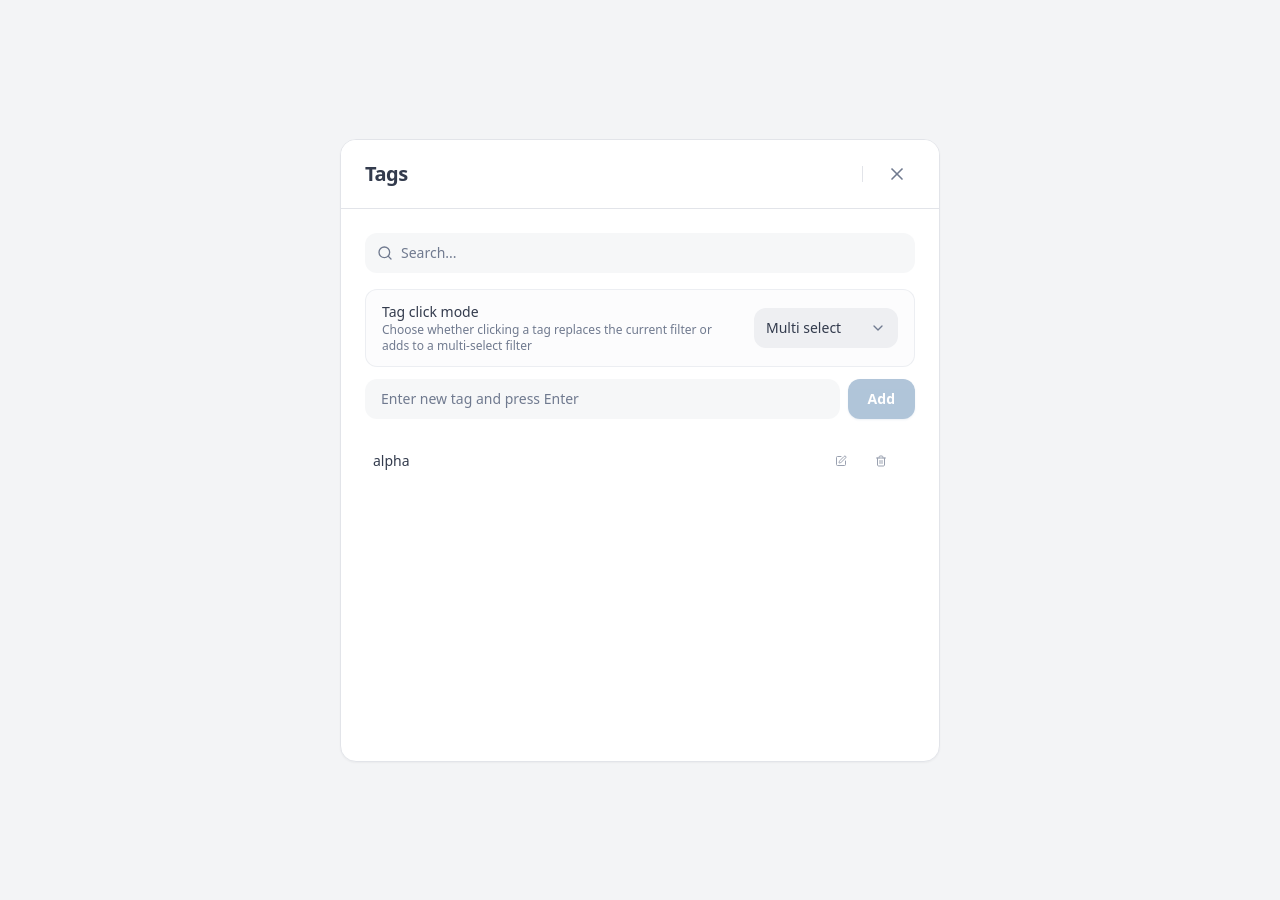
Scenario: TagManagerModal › creates a new prompt tag through the manager
Check: the text "alpha" is shown, box [373, 450, 410, 470]
Type "beta" into the field labelled "Enter new tag and press Enter" at (602, 398), box [365, 378, 840, 418]
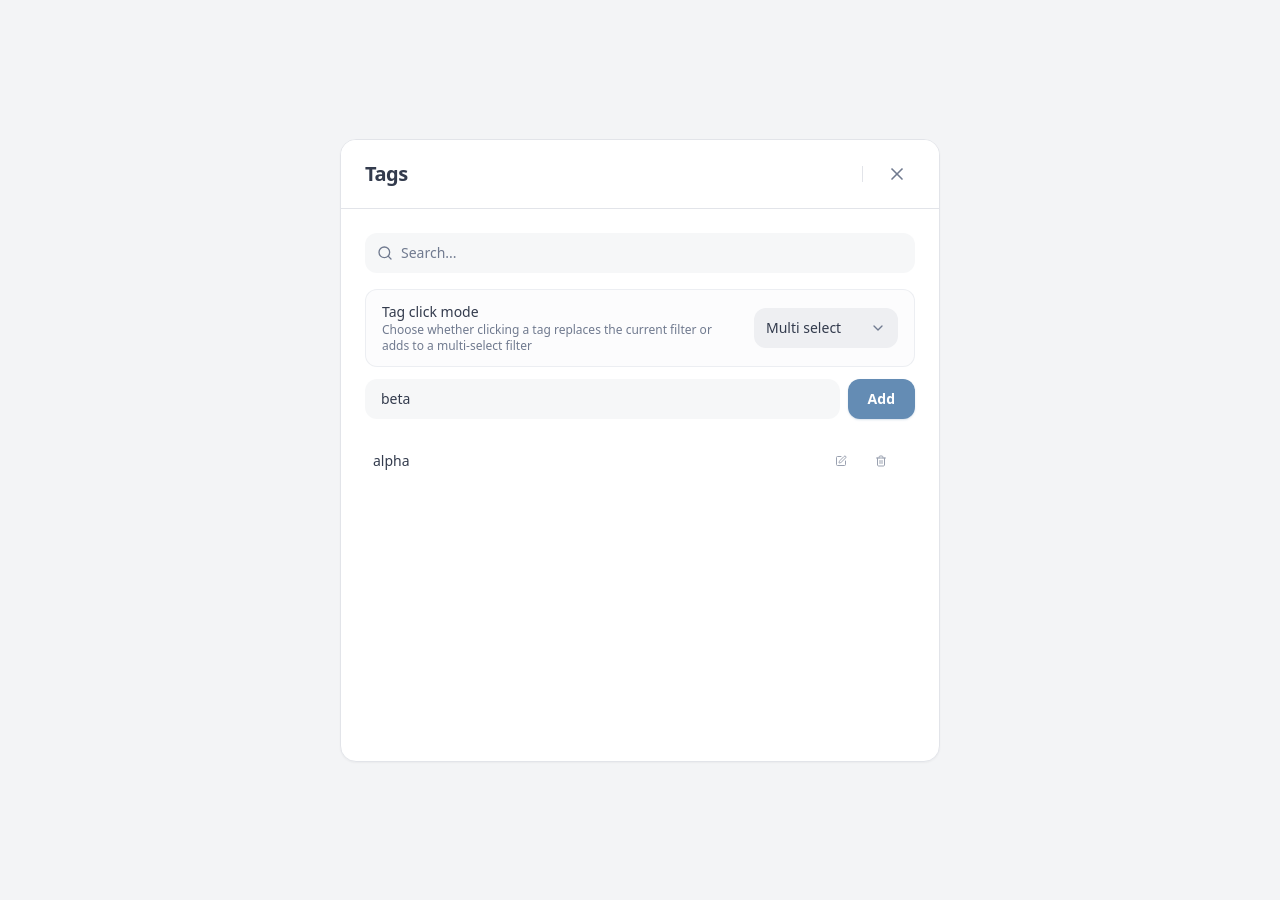
Click the button "Add" at (881, 398), box [848, 378, 915, 418]
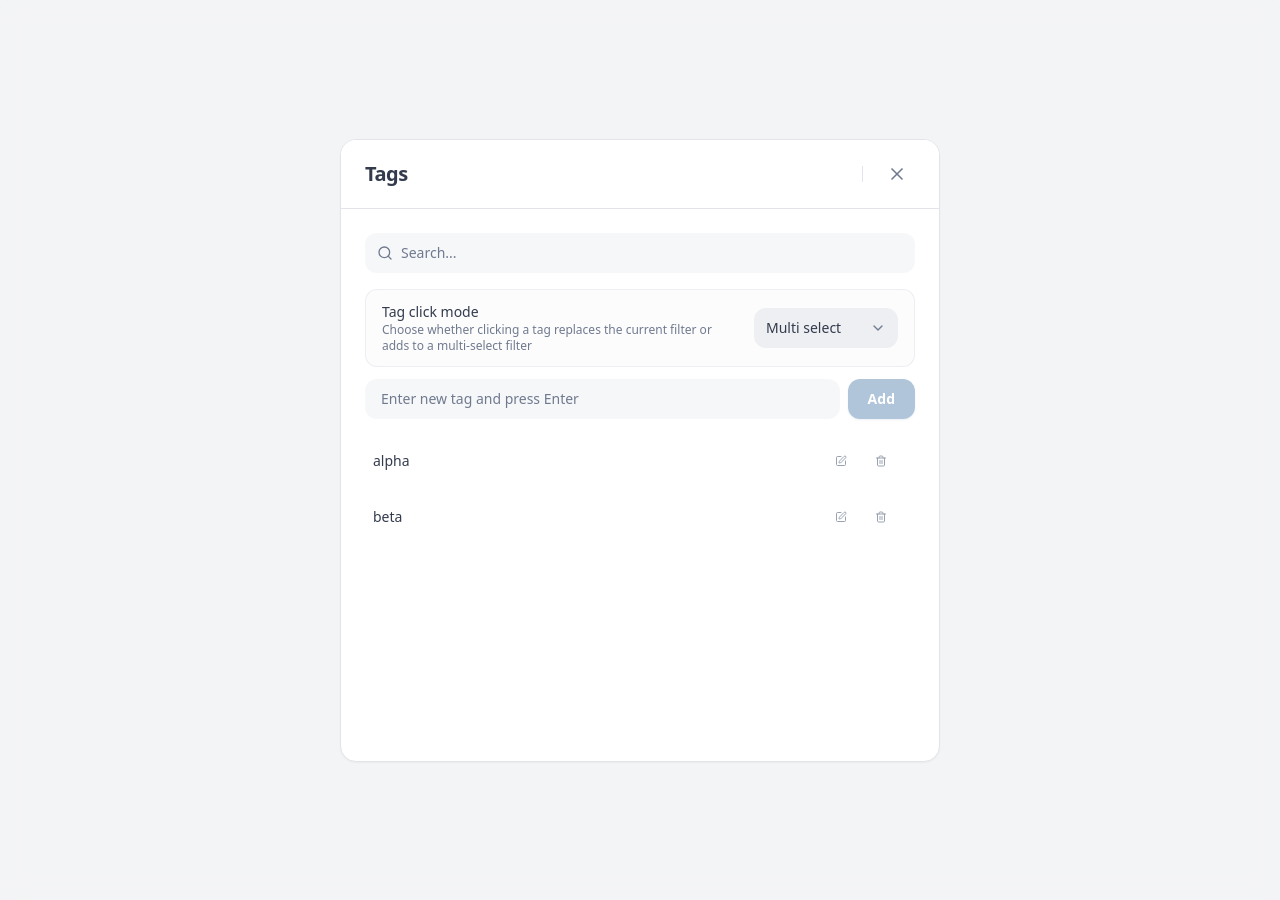
Check: the text "beta" is shown, box [373, 506, 402, 526]
